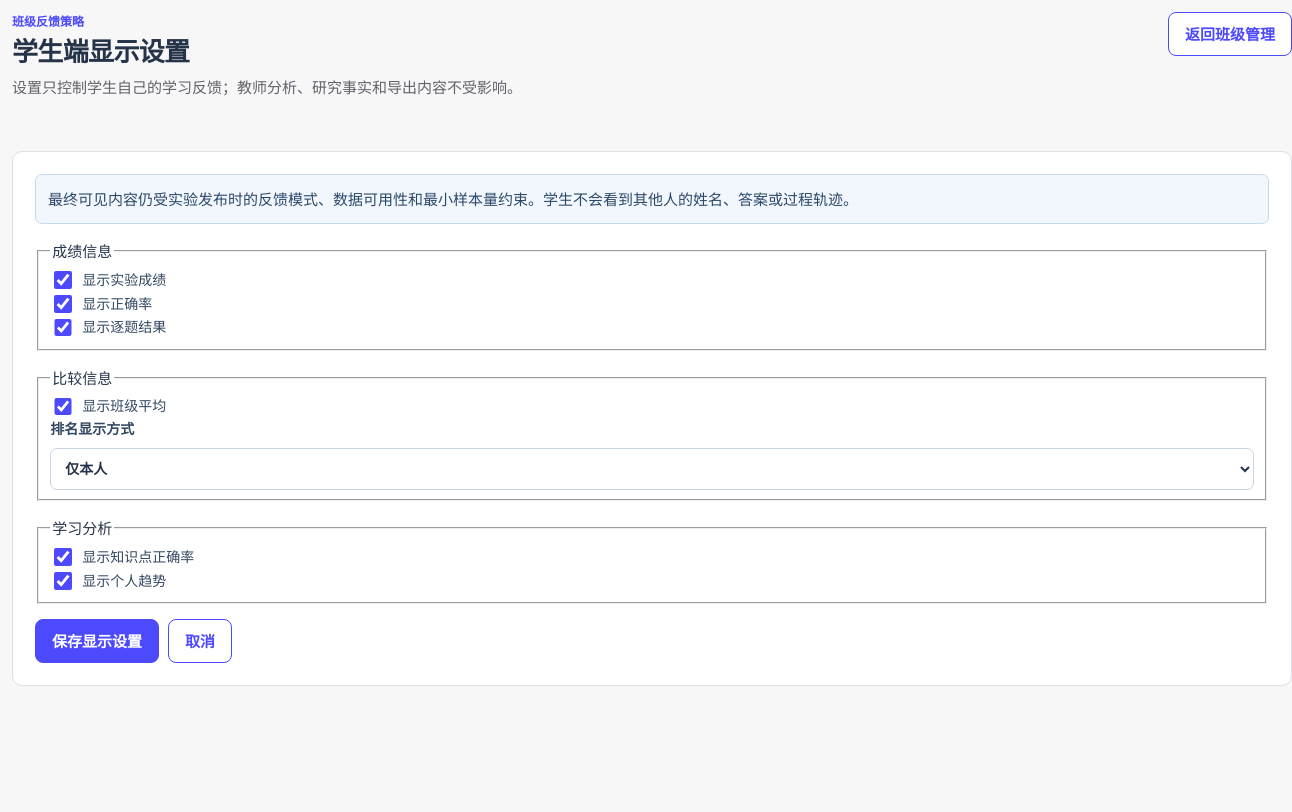
Scenario: TeacherClassVisibilitySettings › submits the complete server policy without deriving dependent visibility fields
Click the checkbox named "show_correct_rate": [63, 304] box [54,295,72,313]
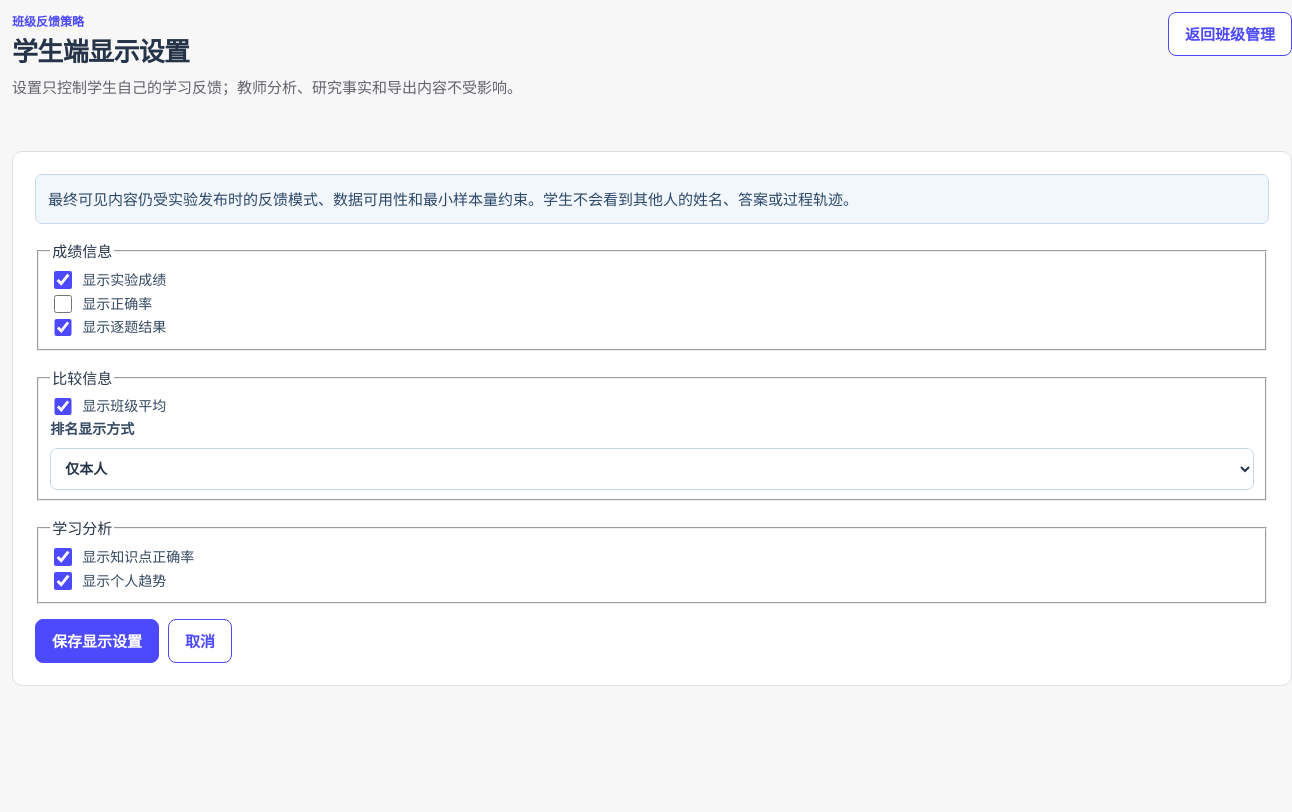
Submit the form
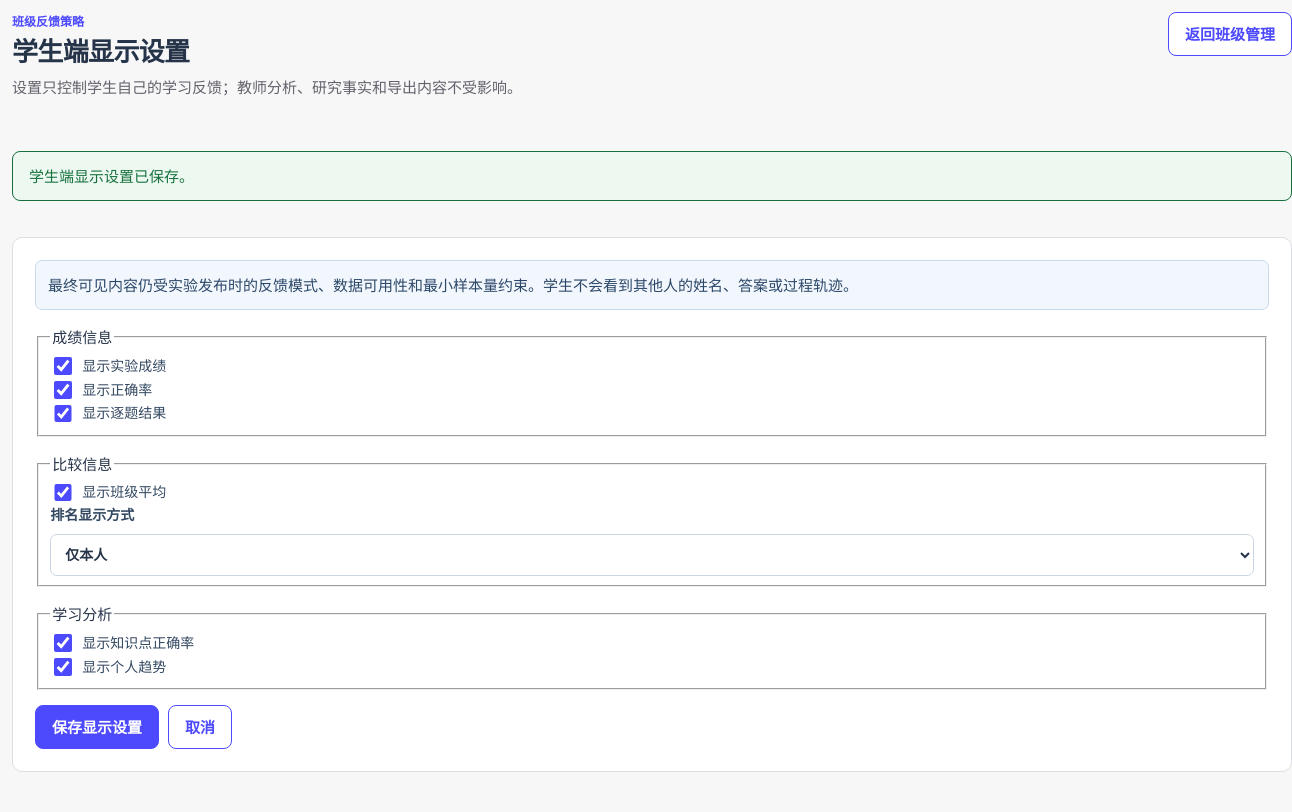
Expected: the text "学生端显示设置已保存。" is shown, [12,151,1291,201]
